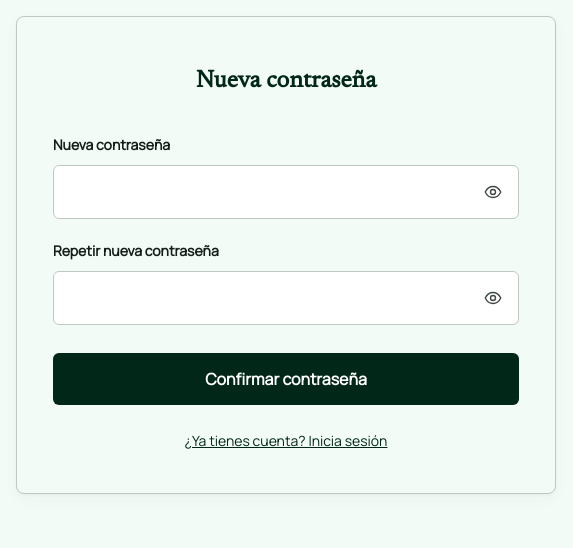
Test: ResetPassword Page › confirms the reset on 204 showing success and a manual login link without a session
Type "Password123!" into the password field labelled "Nueva contraseña" at (286, 192), box [53,165,519,219]
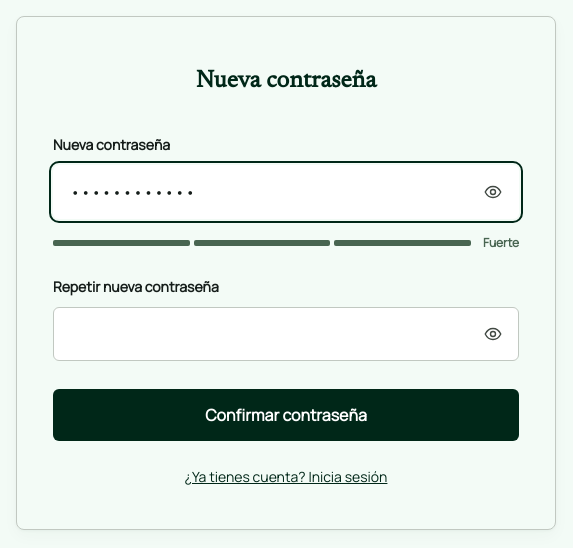
Type "Password123!" into the password field labelled "Repetir nueva contraseña" at (286, 334), box [53,307,519,361]
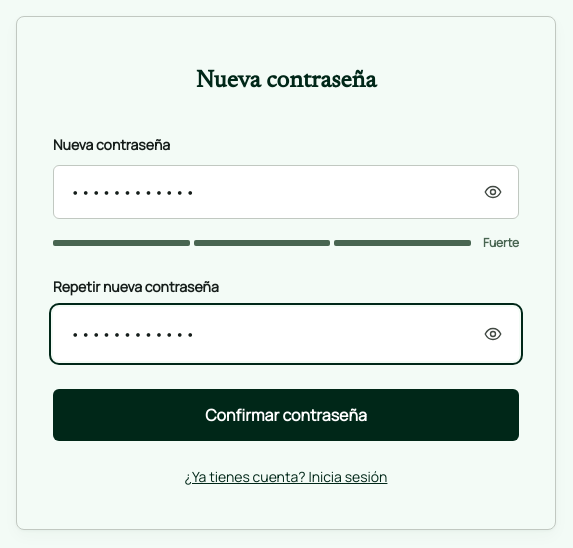
Click the button "Confirmar contraseña" at (286, 415), box [53,389,519,441]
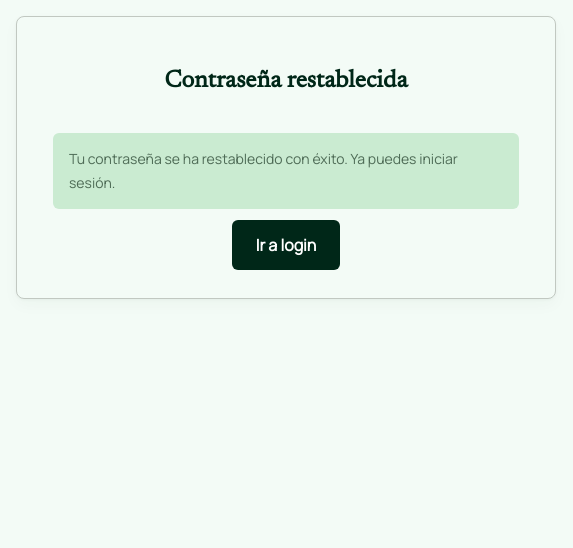
Expected: the heading "Contraseña restablecida" is shown, [164,69,407,93]
